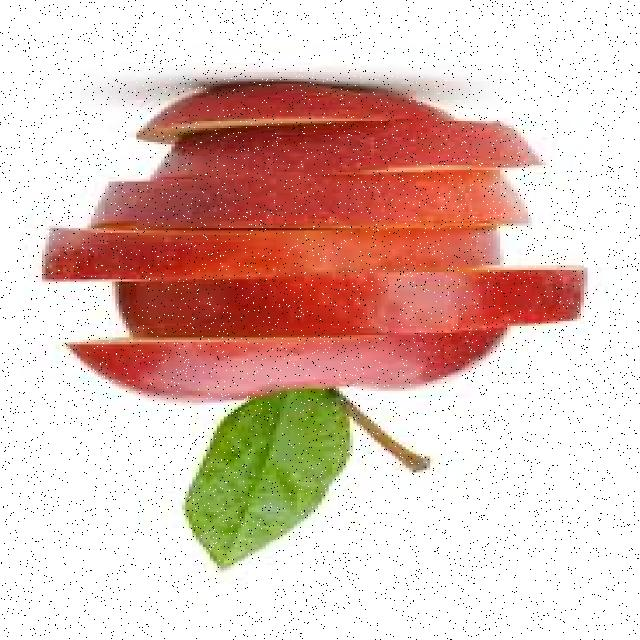Apple: (37, 86, 589, 466)
